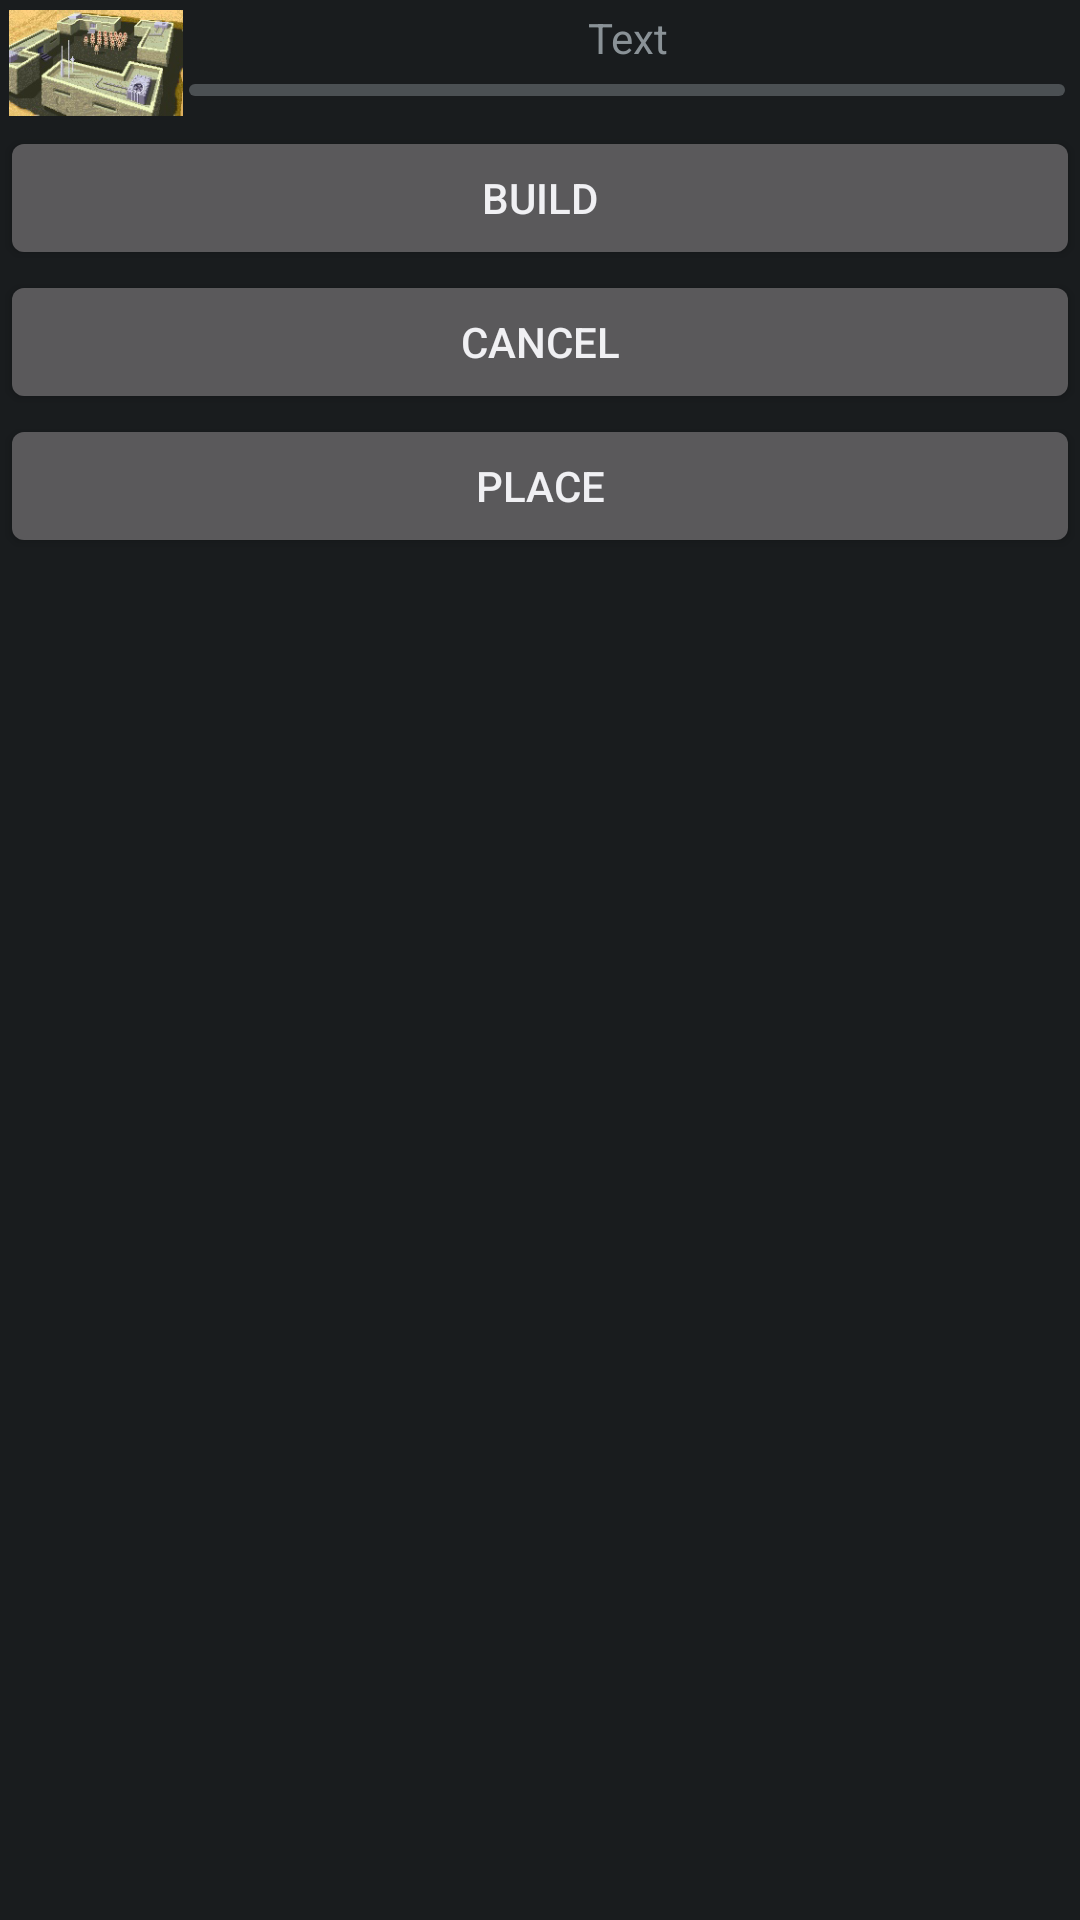

Point at icon controls on the screen. Image size 1080px×1920px, points as (x=x, y=y).
Selection Graphic: (x=96, y=63)
